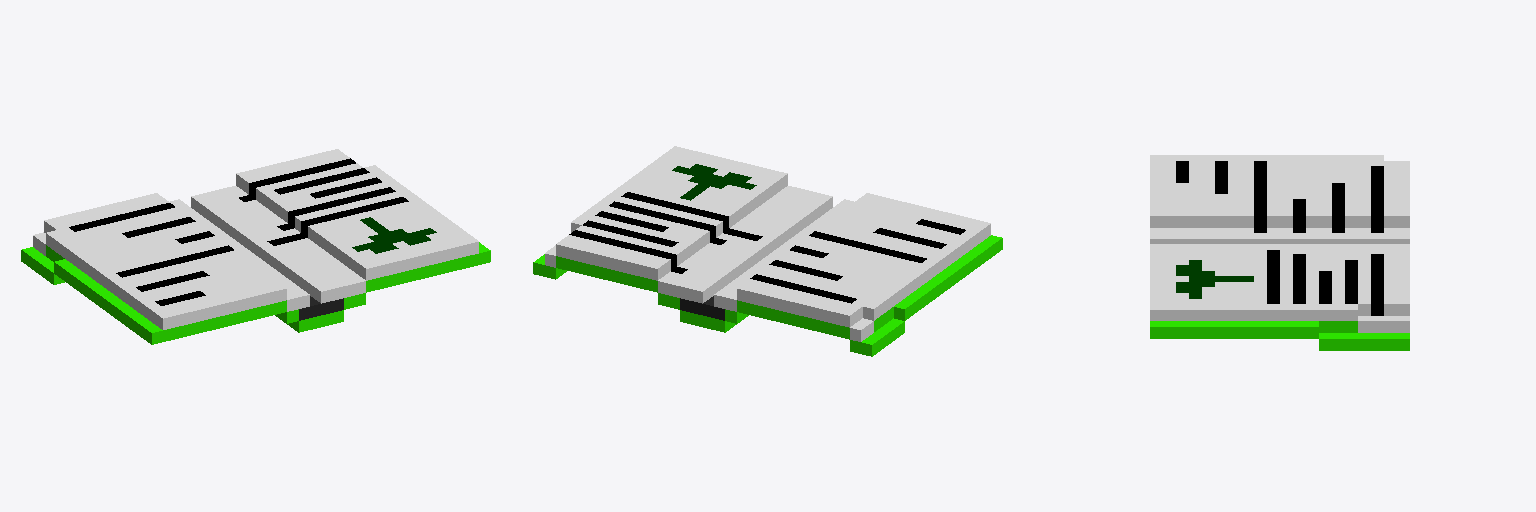
3 renders of one model, left to right at view 1: azimuth 30°, elevation 25°; view 2: azimuth 150°, elevation 25°; view 3: azimuth 270°, elevation 25°, orthographic.
Parts seen in each view (by area): view 1: object 1; view 2: object 1; view 3: object 1.
Boxes of the visible parts, x1=… form: object 1: x1=21, y1=149, x2=490, y2=344; object 1: x1=533, y1=146, x2=1002, y2=356; object 1: x1=1150, y1=155, x2=1409, y2=350.
Bounding box in the file's own units: 3 × 0.4 × 2.
1 materials, 1 textured.